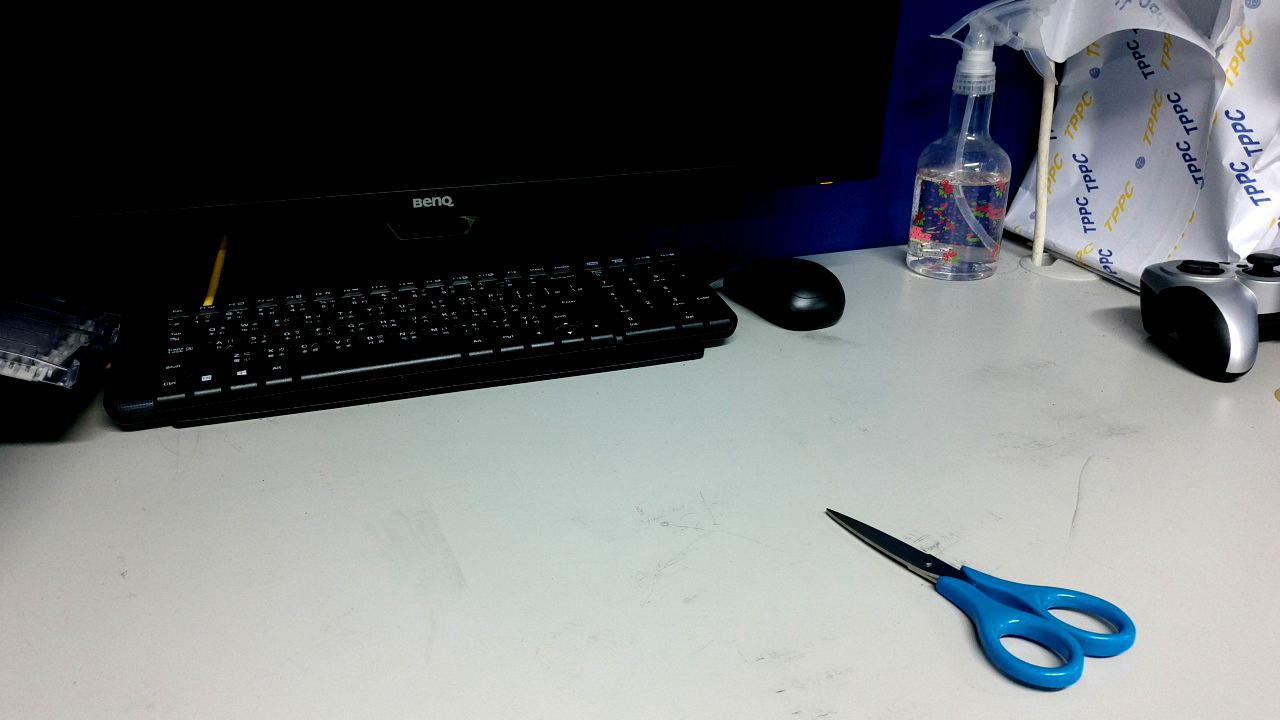long: (159, 484, 339, 638)
